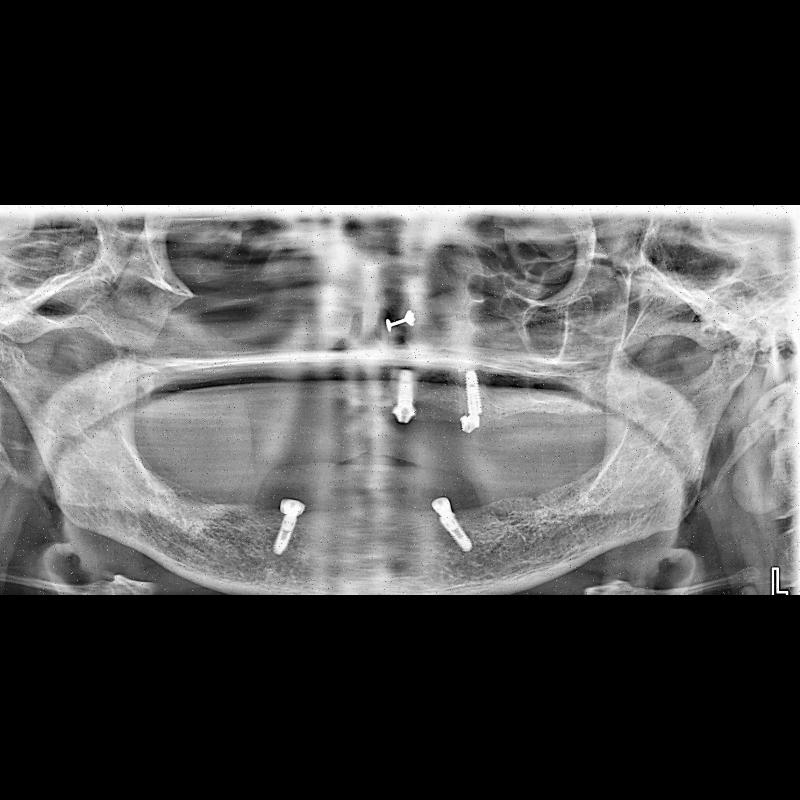osstem: (460, 366, 488, 416), (438, 516, 473, 552), (272, 516, 298, 558)
